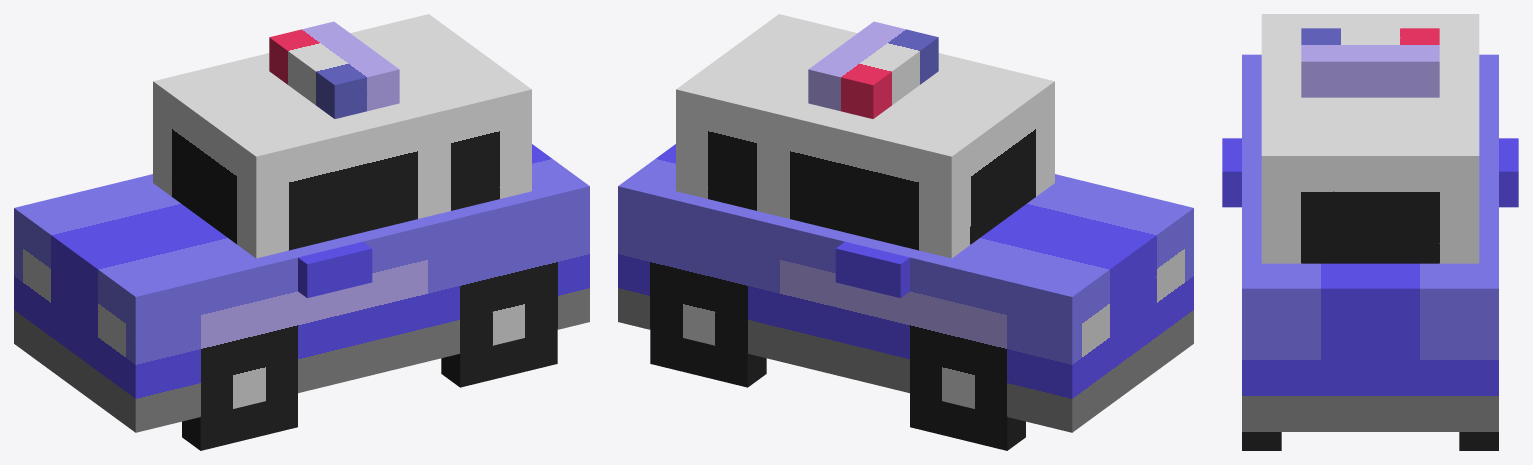
File: veh_car_police.dae
The picture shows the model from 3 angles, left to right: view 1: azimuth 30°, elevation 25°; view 2: azimuth 150°, elevation 25°; view 3: azimuth 270°, elevation 25°; orthographic projection. The views are drawn at different scales.
Parts seen in each view (by area): view 1: veh_car_police; view 2: veh_car_police; view 3: veh_car_police.
Part boxes in pixels (box(x1,y1,x2,y2)): veh_car_police: box(14, 14, 589, 450); veh_car_police: box(618, 14, 1193, 450); veh_car_police: box(1222, 14, 1518, 450).
Size of the model in its own units: 2.8 by 1.8 by 1.5.
